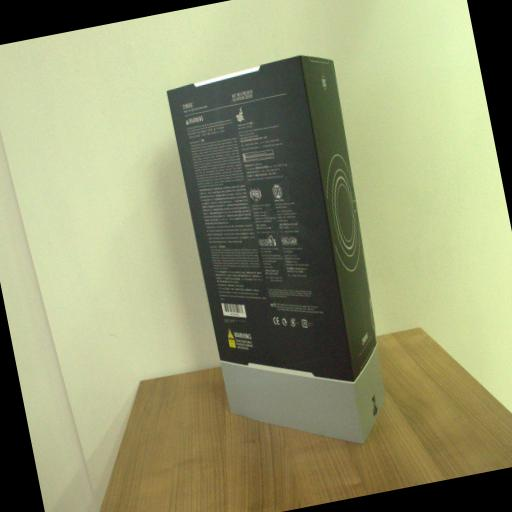Cyborg: (164, 48, 408, 470)
